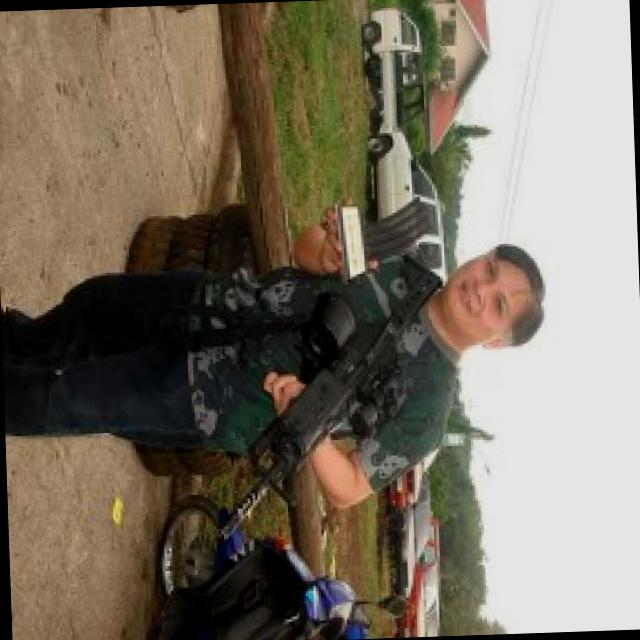long weapon: (188, 266, 452, 542)
